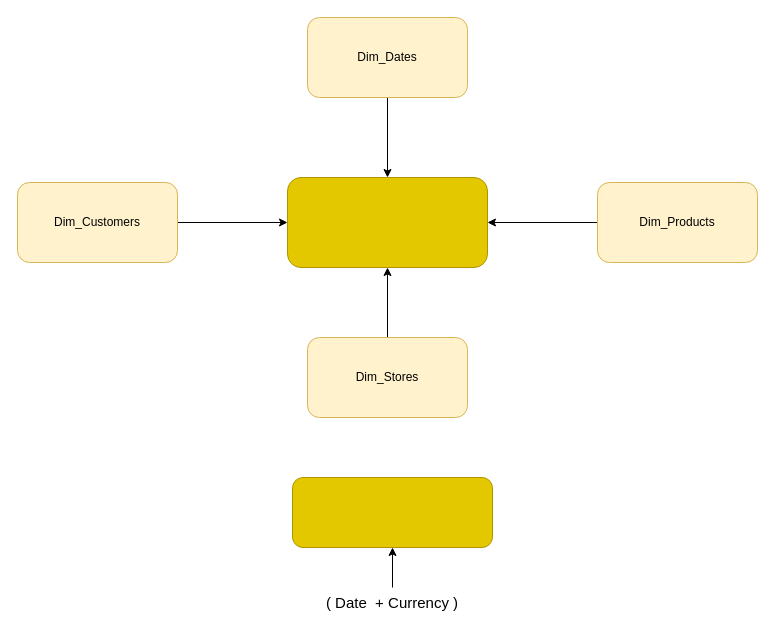
This 775x635 diagram has some shape labels left out. The centre of each missing label's shape, as x and y in pixels:
"Fact_Exchange_Rates" belongs at (392,512).
"Fact_Sales" belongs at (387,222).
